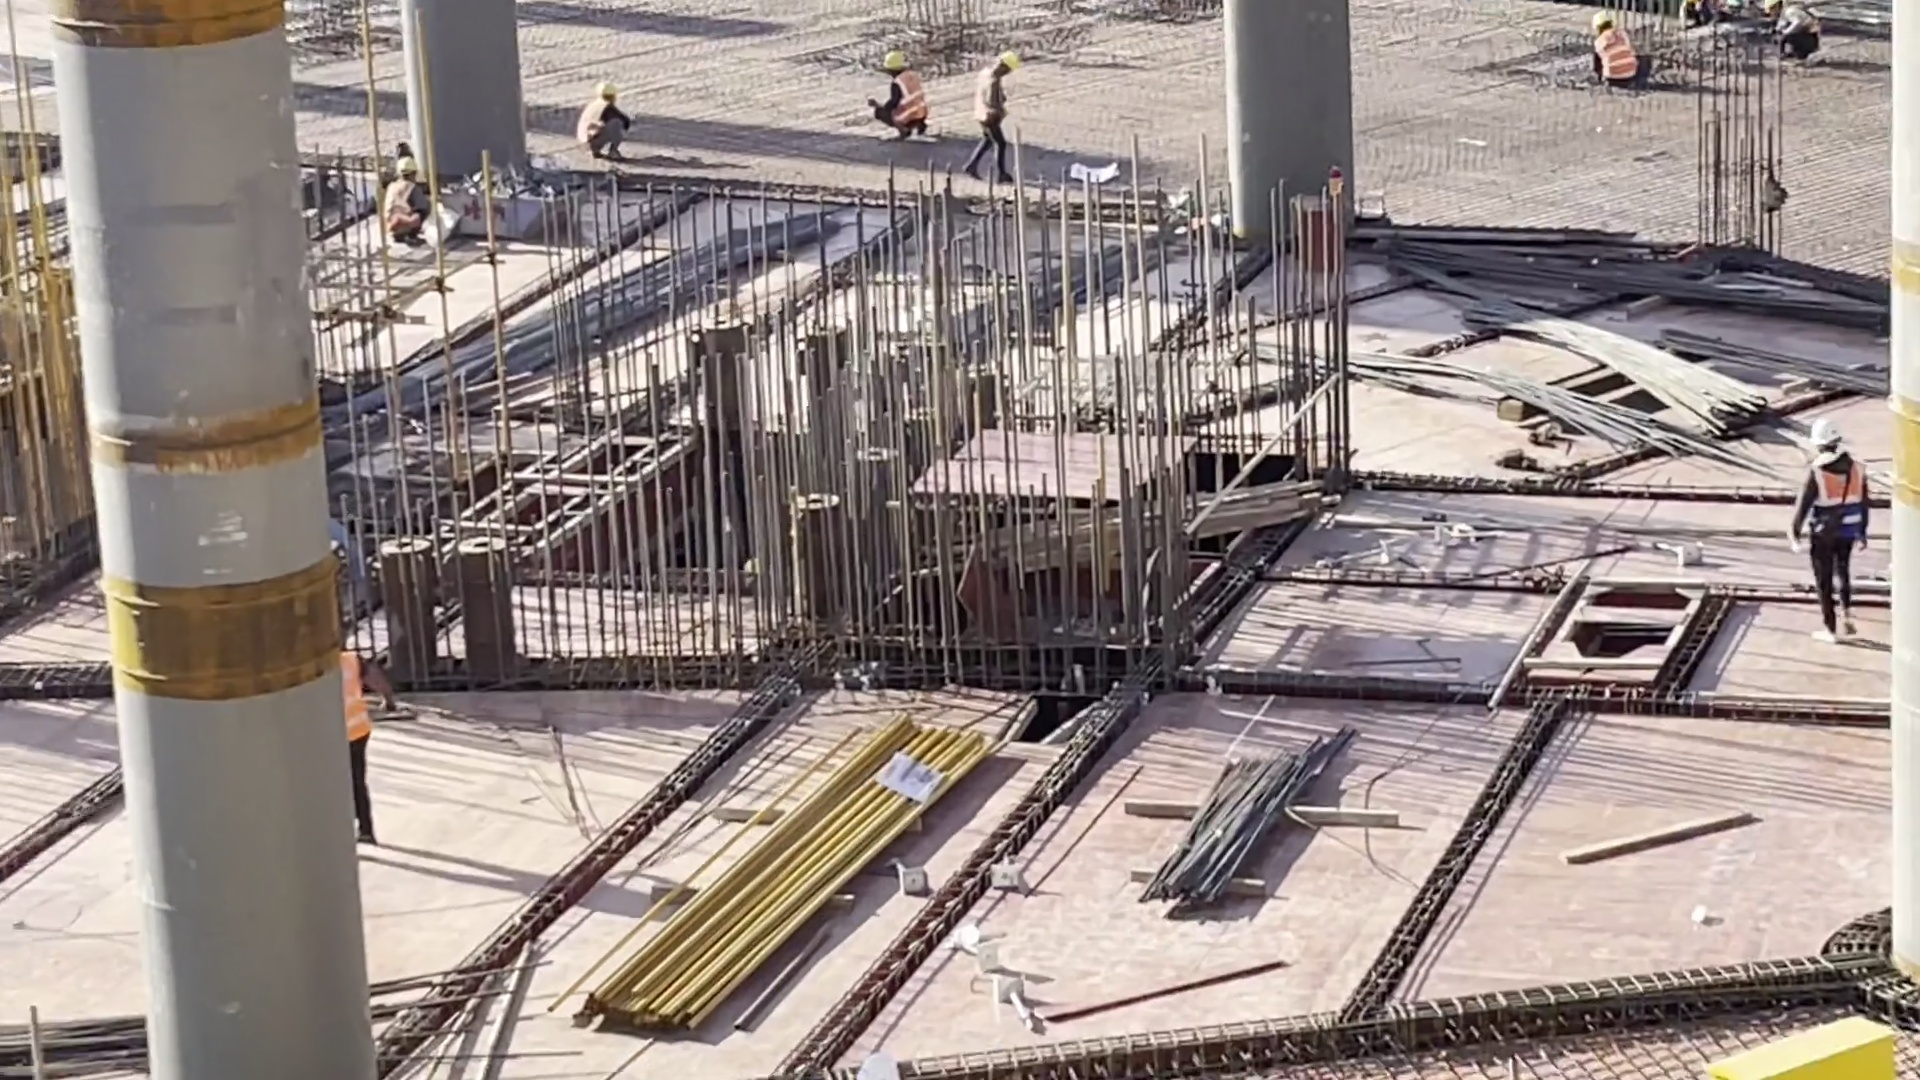helmet: (1801, 404, 1849, 459), (878, 53, 911, 76), (1589, 11, 1611, 23)
person: (1788, 408, 1877, 639), (324, 624, 386, 845), (1573, 4, 1657, 105), (962, 32, 1018, 180), (858, 42, 930, 148), (364, 152, 440, 249), (582, 75, 628, 157)
vest: (1808, 461, 1870, 538), (885, 82, 933, 127), (387, 179, 430, 230), (1597, 31, 1639, 81), (574, 94, 611, 142), (975, 72, 1008, 126)
